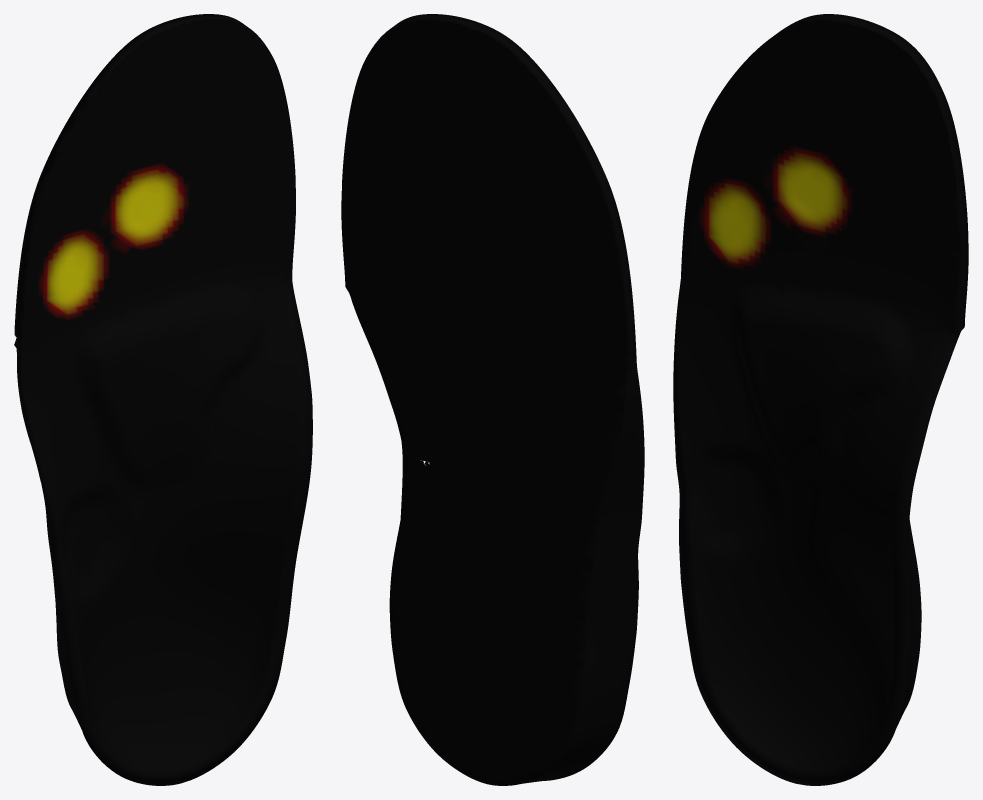
File: OFFLOAD-MET-HEAD_LEFT.glb
3 renders of one model, left to right at view 1: azimuth 30°, elevation 25°; view 2: azimuth 150°, elevation 25°; view 3: azimuth 330°, elevation 25°, orthographic. The views are drawn at different scales.
Visible parts, largest first — view 1: geometry_0; view 2: geometry_0; view 3: geometry_0.
Part boxes in pixels (bbox=[...]): geometry_0: bbox=[14, 14, 312, 785]; geometry_0: bbox=[341, 14, 644, 785]; geometry_0: bbox=[673, 14, 968, 785].
Bounding box in the file's own units: 110 × 279 × 28.25.
